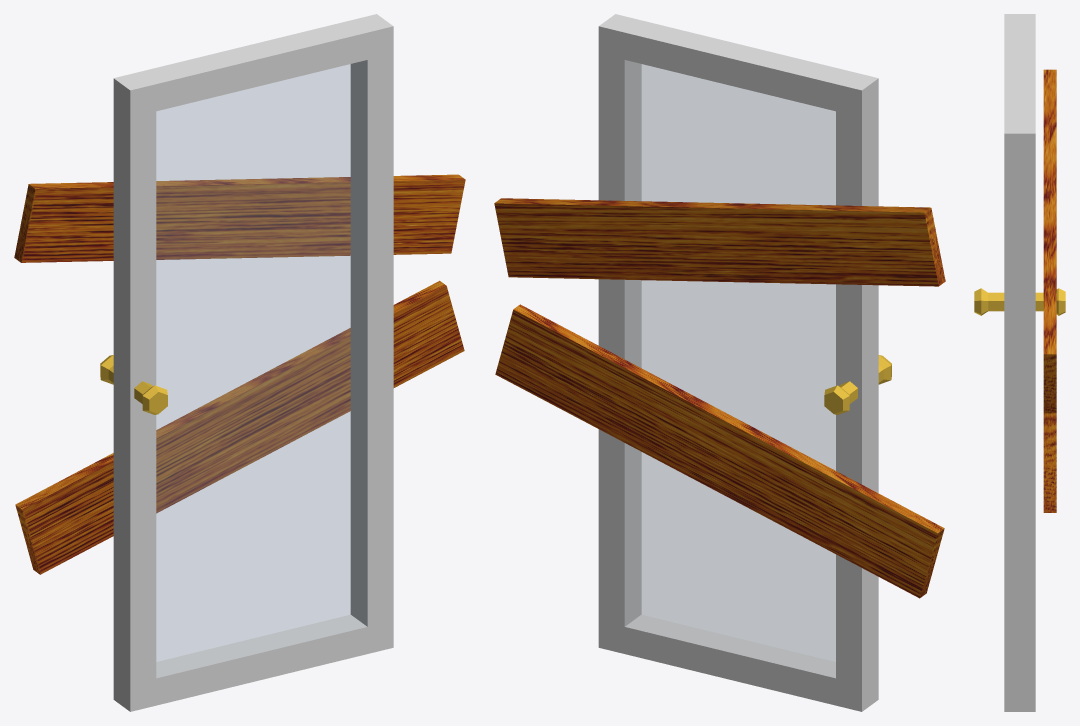
File: door_boarded.fbx
The picture shows the model from 3 angles, left to right: view 1: azimuth 30°, elevation 25°; view 2: azimuth 150°, elevation 25°; view 3: azimuth 270°, elevation 25°; orthographic projection. The views are drawn at different scales.
Parts seen in each view (by area): view 1: GlassDoor; view 2: GlassDoor; view 3: GlassDoor.
Part boxes in pixels (bbox=[...]): GlassDoor: bbox=[14, 14, 465, 711]; GlassDoor: bbox=[494, 14, 945, 711]; GlassDoor: bbox=[974, 14, 1065, 711].
Bounding box in the file's own units: 341 × 456 × 65.39.
